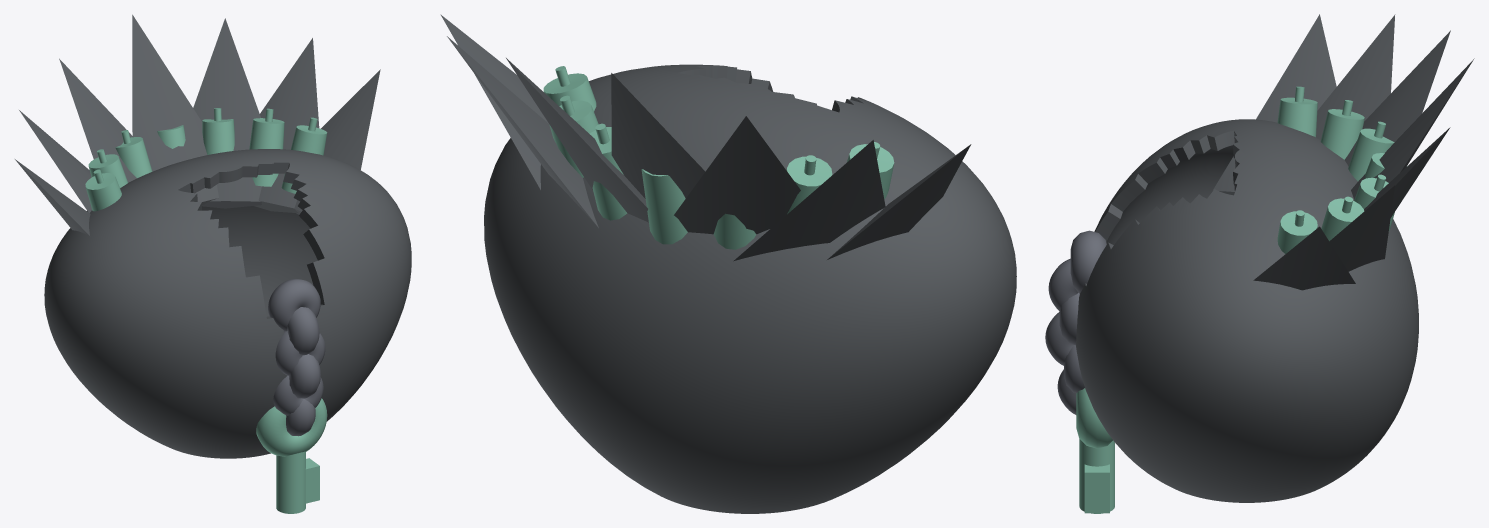
Rendered from thresh_mantle.glb.
The picture shows the model from 3 angles, left to right: view 1: azimuth 30°, elevation 25°; view 2: azimuth 150°, elevation 25°; view 3: azimuth 270°, elevation 25°; orthographic projection. The views are drawn at different scales.
Parts seen in each view (by area): view 1: thresh_mantle; view 2: thresh_mantle; view 3: thresh_mantle.
Part boxes in pixels (left/top/right/bottom): thresh_mantle: left=15, top=14, right=411, bottom=513; thresh_mantle: left=440, top=14, right=1016, bottom=513; thresh_mantle: left=1045, top=14, right=1474, bottom=513.
Bounding box in the file's own units: 0.694 × 0.683 × 0.5929.
